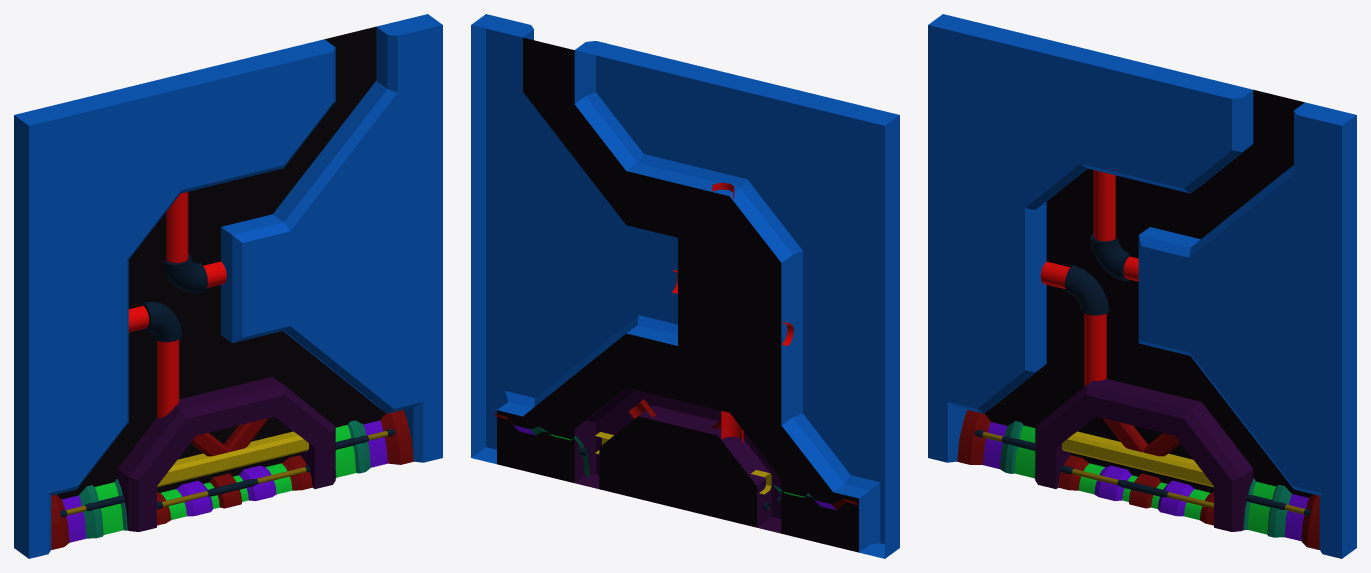
Rendered from OBJ_4_Mur_Sym.fbx.
The picture shows the model from 3 angles, left to right: view 1: azimuth 30°, elevation 25°; view 2: azimuth 150°, elevation 25°; view 3: azimuth 330°, elevation 25°; orthographic projection.
Parts seen in each view (by area): view 1: OBJ_4_Mur_Sym; view 2: OBJ_4_Mur_Sym; view 3: OBJ_4_Mur_Sym.
Part boxes in pixels (bbox=[...]): OBJ_4_Mur_Sym: bbox=[14, 14, 442, 558]; OBJ_4_Mur_Sym: bbox=[471, 14, 899, 558]; OBJ_4_Mur_Sym: bbox=[928, 14, 1356, 558].
Bounding box in the file's own units: 16 × 16.03 × 1.39.
